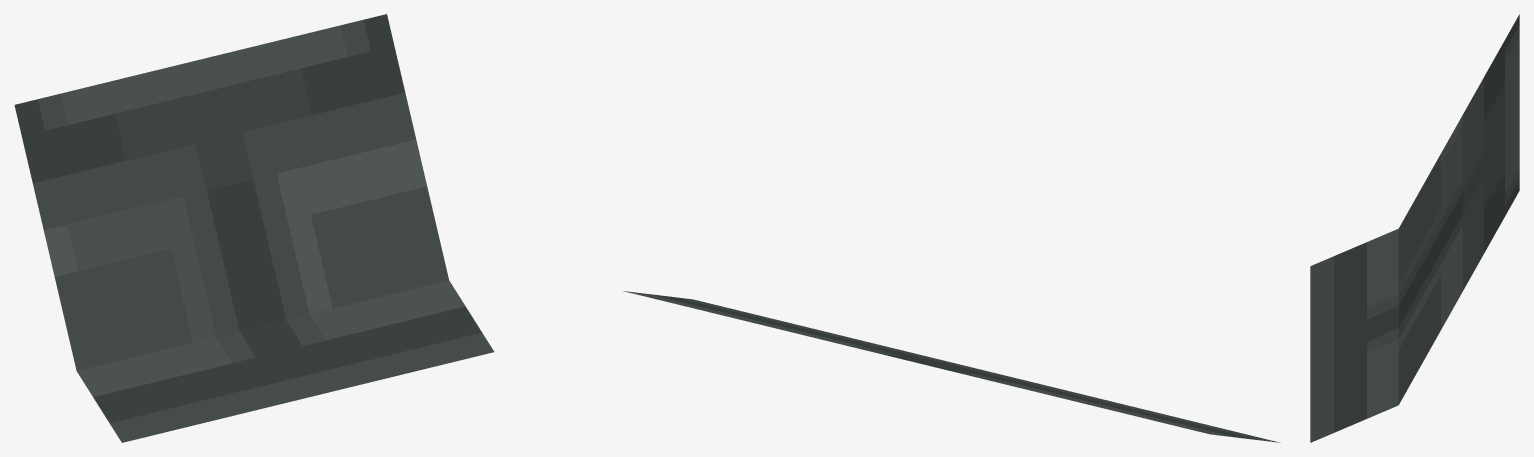
3 renders of one model, left to right at view 1: azimuth 30°, elevation 25°; view 2: azimuth 150°, elevation 25°; view 3: azimuth 270°, elevation 25°, orthographic. The views are drawn at different scales.
Bounding box in the file's own units: 1 × 0.6652 × 0.5.
Materials: 1 (1 with a texture image).
